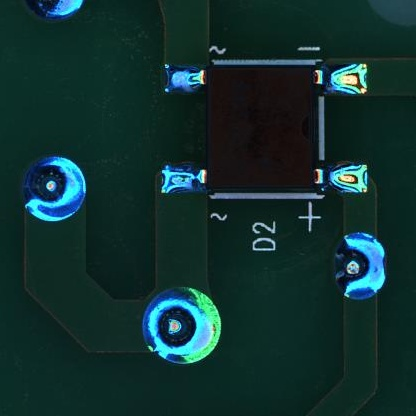spot: (143, 286, 222, 367), (22, 154, 88, 222), (334, 232, 387, 301)
